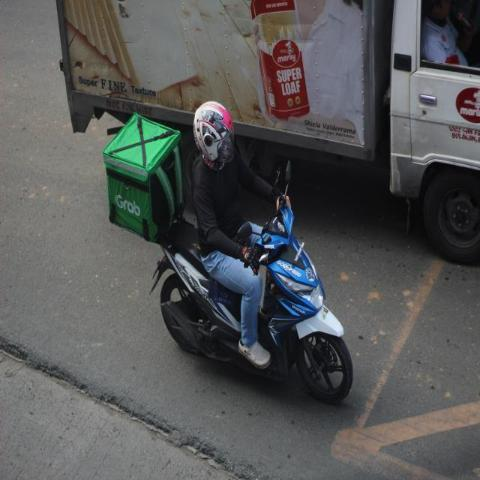motorcycle: (101, 100, 354, 404)
truck: (52, 0, 479, 267)
